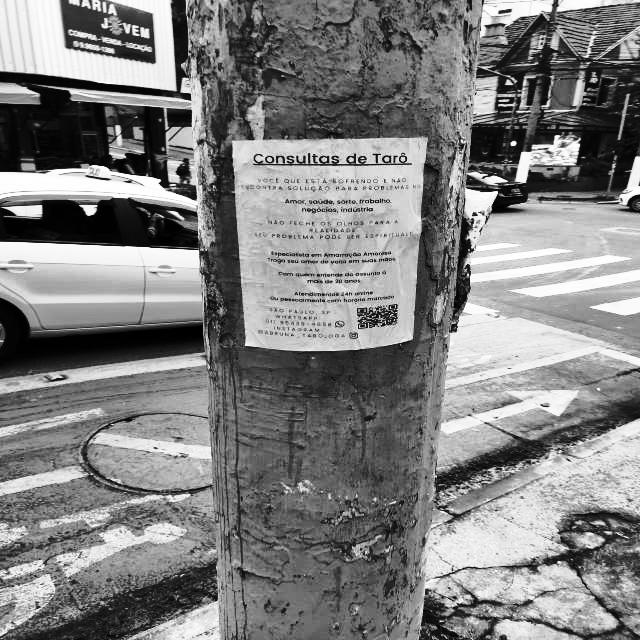qr_code: (357, 304, 397, 329)
